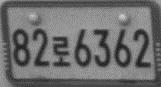2: (132, 27, 151, 68), (31, 27, 50, 67)
3: (93, 28, 110, 67)
6: (73, 28, 91, 66), (114, 28, 131, 67)
8: (11, 29, 30, 66)
로: (52, 35, 70, 66)
